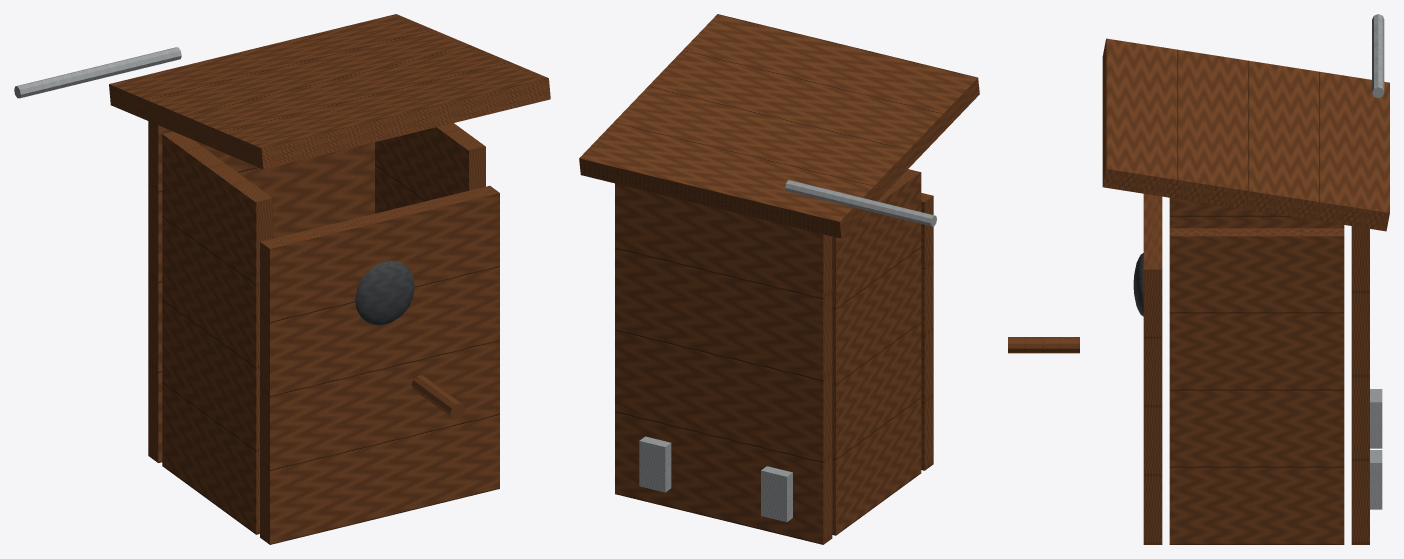
File: birds-and-reptiles-hd-nest-box-2e3a0319__28125.glb
3 views of the same model, side by side, from view 1: azimuth 30°, elevation 25°; view 2: azimuth 150°, elevation 25°; view 3: azimuth 270°, elevation 25° (orthographic). The views are drawn at different scales.
Parts seen in each view (by area): view 1: nest-box, lid-nest-box/bark, lid-nest-box/ash; view 2: nest-box, lid-nest-box/bark, lid-nest-box/ash; view 3: nest-box, lid-nest-box/bark, lid-nest-box/ash.
Boxes of the visible parts, left/top/right/bottom form: nest-box: left=148, top=121, right=499, bottom=544; lid-nest-box/bark: left=109, top=14, right=550, bottom=169; lid-nest-box/ash: left=14, top=47, right=181, bottom=98; nest-box: left=615, top=169, right=933, bottom=544; lid-nest-box/bark: left=579, top=14, right=979, bottom=238; lid-nest-box/ash: left=785, top=180, right=936, bottom=226; nest-box: left=1008, top=193, right=1382, bottom=544; lid-nest-box/bark: left=1102, top=38, right=1389, bottom=231; lid-nest-box/ash: left=1372, top=14, right=1384, bottom=98.
Bounding box in the file's own units: 0.402 × 0.4174 × 0.3714.
Materials: 3 (3 with a texture image).
